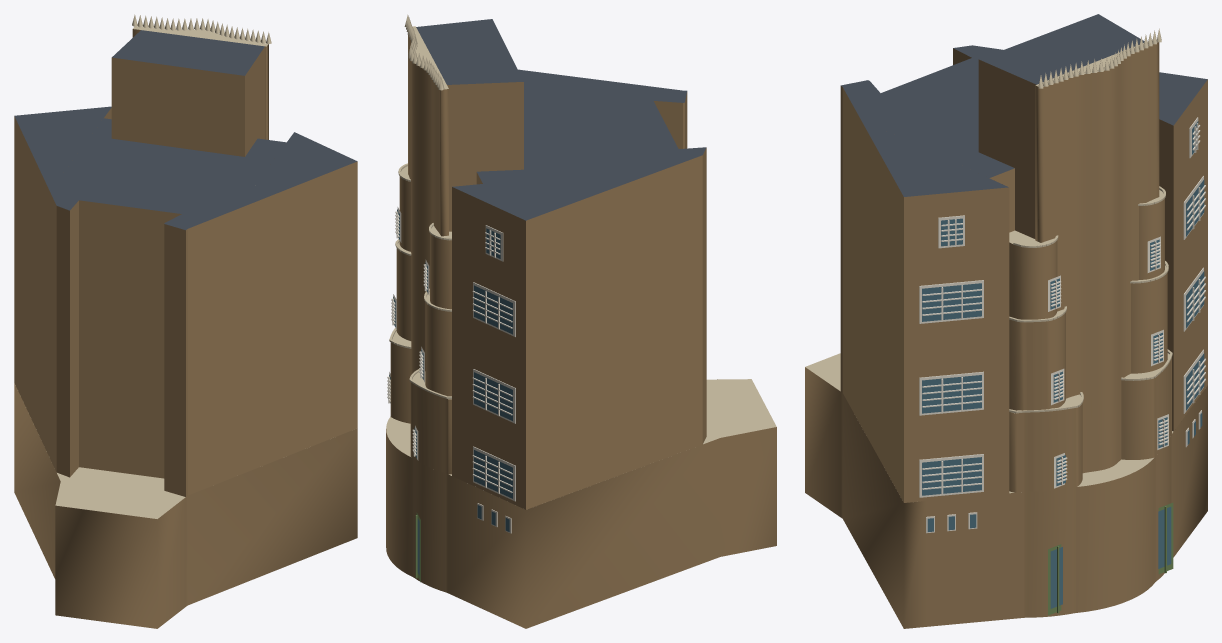
The model's file is dageraad.glb.
3 renders of one model, left to right at view 1: azimuth 30°, elevation 25°; view 2: azimuth 150°, elevation 25°; view 3: azimuth 270°, elevation 25°, orthographic. The views are drawn at different scales.
Visible parts, largest first — view 1: dageraad; view 2: dageraad; view 3: dageraad.
Part boxes in pixels (left/top/right/bottom): dageraad: left=14, top=14, right=357, bottom=628; dageraad: left=386, top=14, right=776, bottom=628; dageraad: left=805, top=14, right=1207, bottom=628.
Size of the model in its own units: 14.93 by 21.9 by 14.85.
